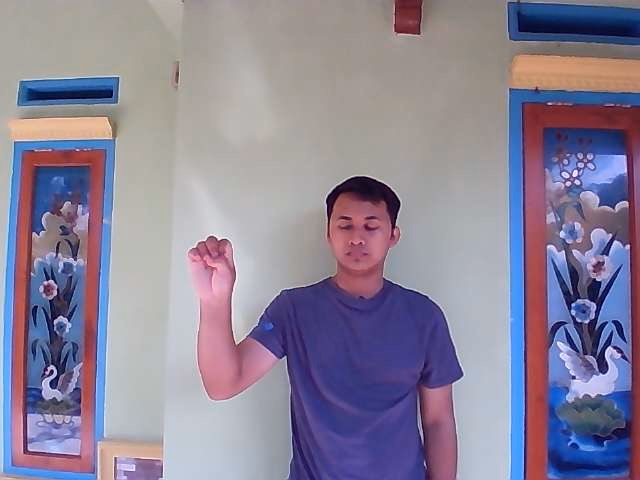E: (185, 235, 237, 291)
